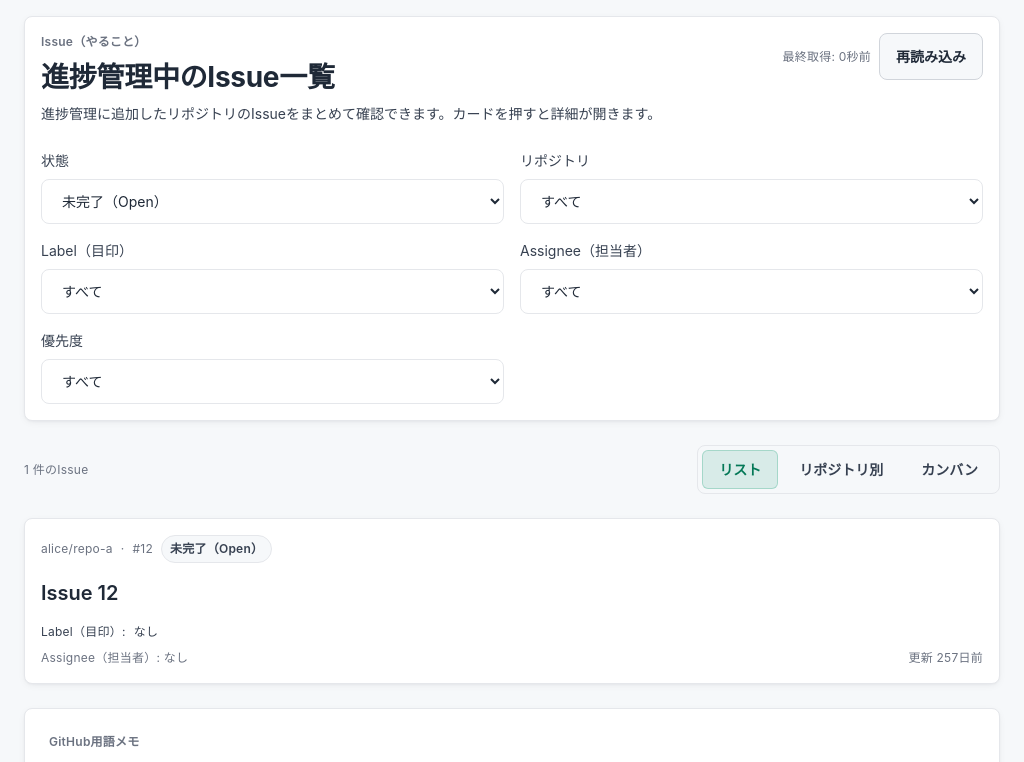
Test: IssuesHome › adds each sequential successful comment to the latest count
The image size is (1024, 762).
Click the button with aria-label "alice/repo-a #12: Issue 12 の詳細を開く": {"x": 512, "y": 601} [24, 518, 1000, 684]
(page scrolled)
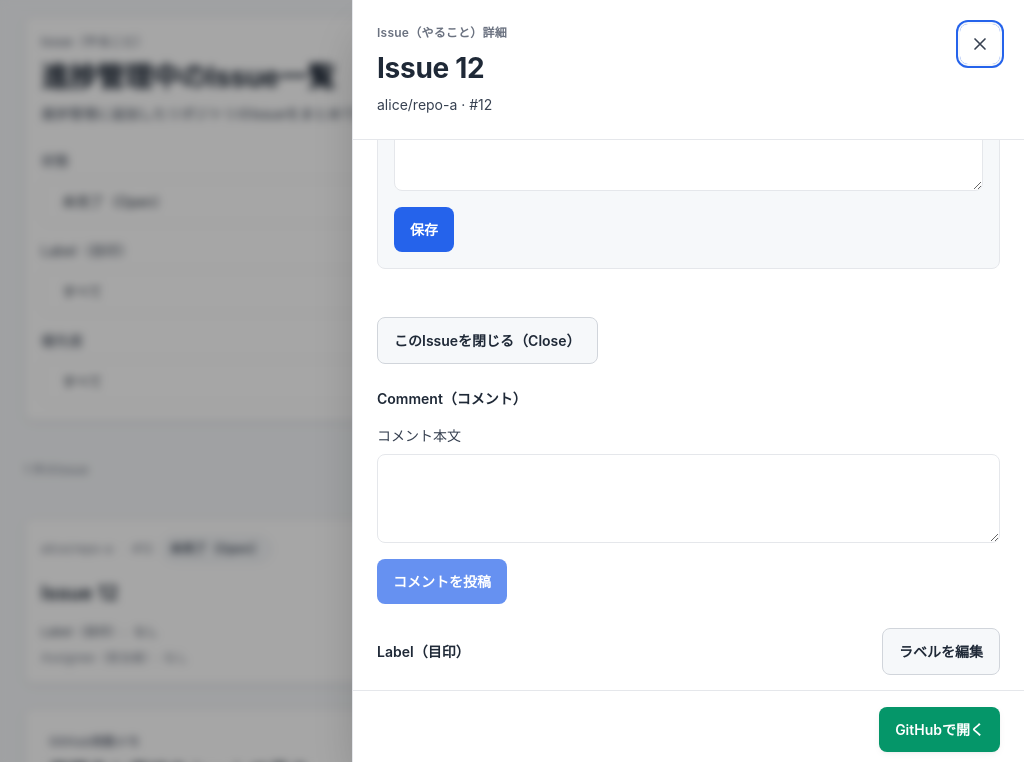
In the text box labelled "コメント本文": {"x": 688, "y": 498} [377, 454, 1000, 543], type "First"
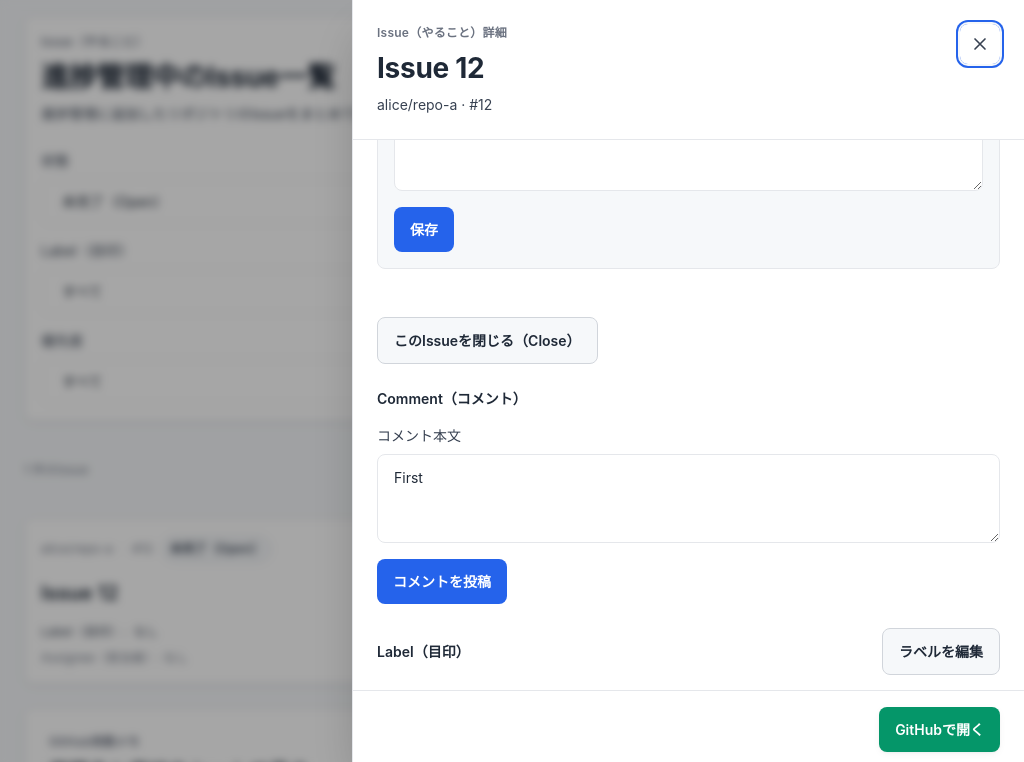
Click the button "コメントを投稿": {"x": 442, "y": 581} [377, 559, 507, 604]
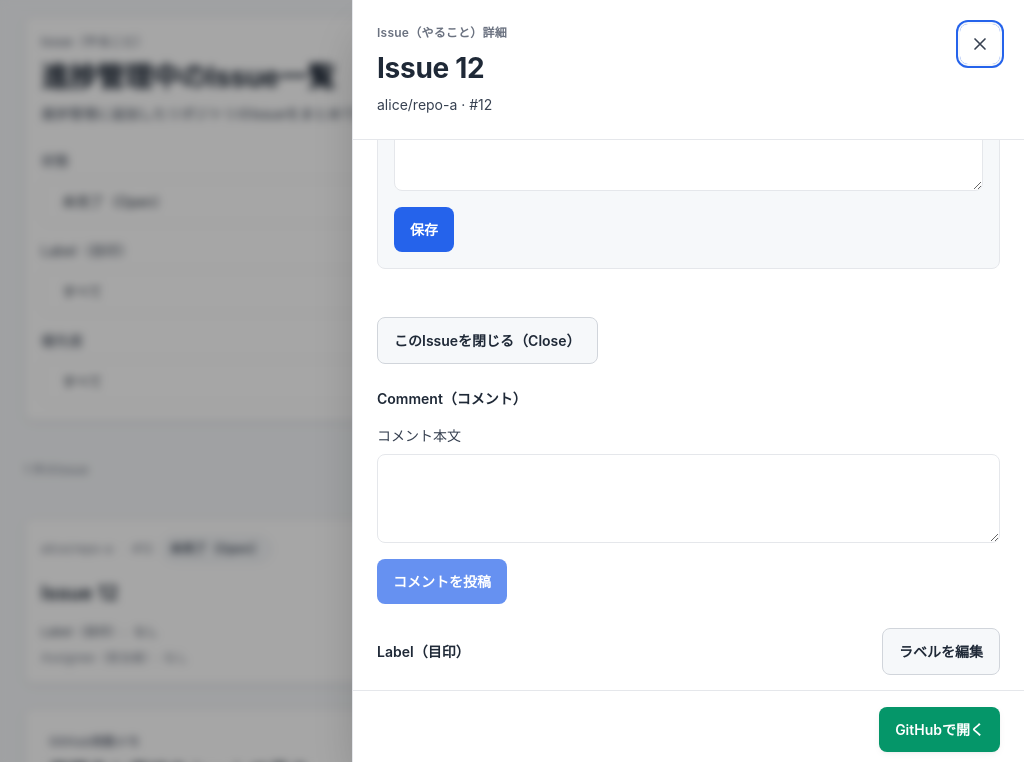
Check: the text box labelled "コメント本文" is empty
In the text box labelled "コメント本文": {"x": 688, "y": 498} [377, 454, 1000, 543], type "Second"
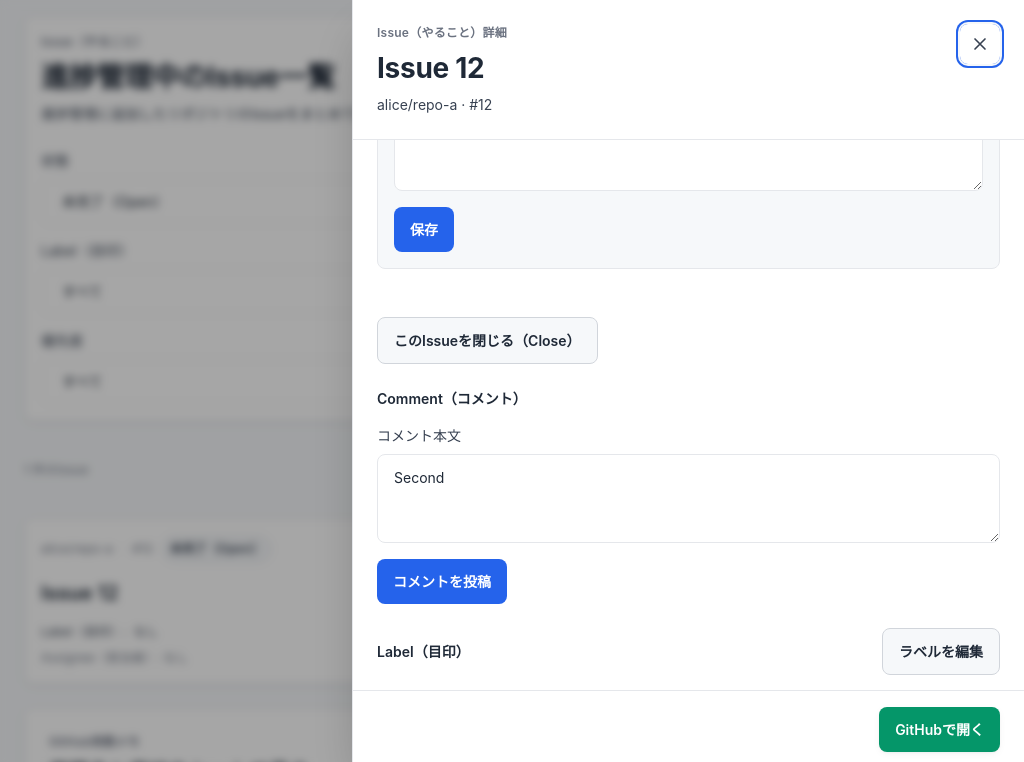
Click the button "コメントを投稿": {"x": 442, "y": 581} [377, 559, 507, 604]
(page scrolled)
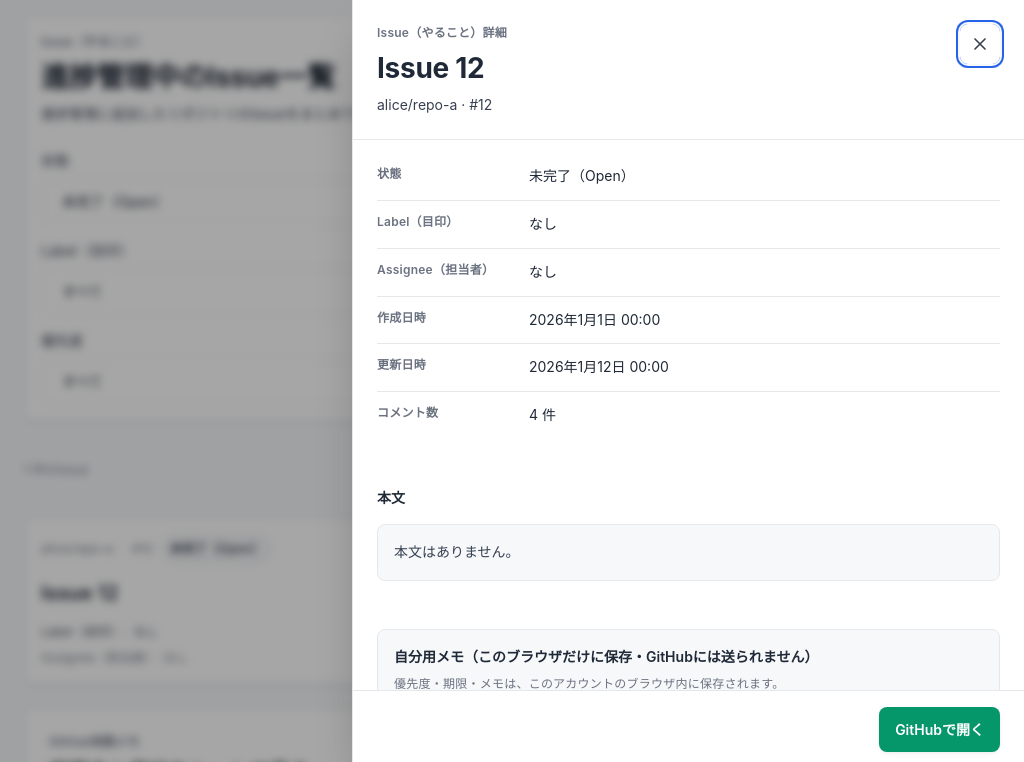
Check: the text "4 件" is shown, box [529, 406, 556, 423]
